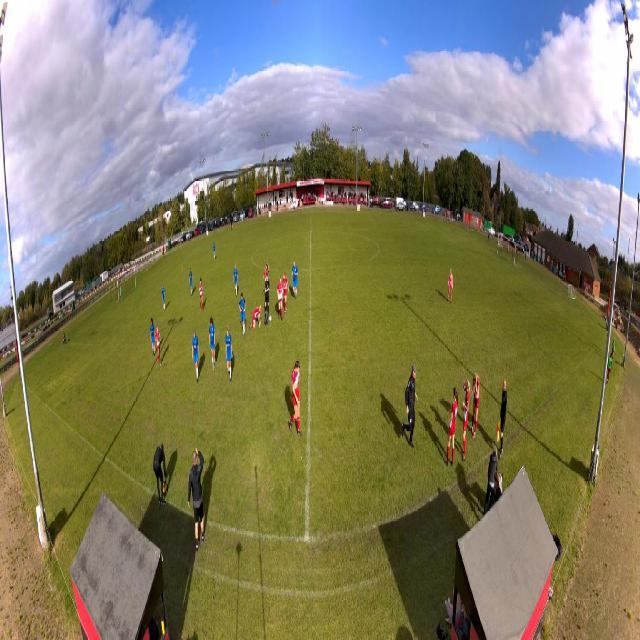ball: (270, 314, 272, 322)
player: (289, 357, 303, 441), (446, 386, 457, 468), (463, 378, 471, 462), (471, 373, 480, 442), (225, 325, 233, 384), (192, 330, 201, 382), (208, 318, 216, 370), (276, 275, 284, 322), (282, 269, 290, 315), (249, 303, 262, 330), (239, 292, 246, 338), (292, 260, 299, 300), (156, 325, 162, 367), (150, 317, 156, 357), (198, 277, 204, 313), (265, 274, 270, 316), (232, 264, 238, 298), (448, 268, 453, 307), (262, 261, 269, 287), (188, 267, 193, 296), (162, 284, 166, 314), (212, 240, 216, 262), (119, 283, 123, 305)
